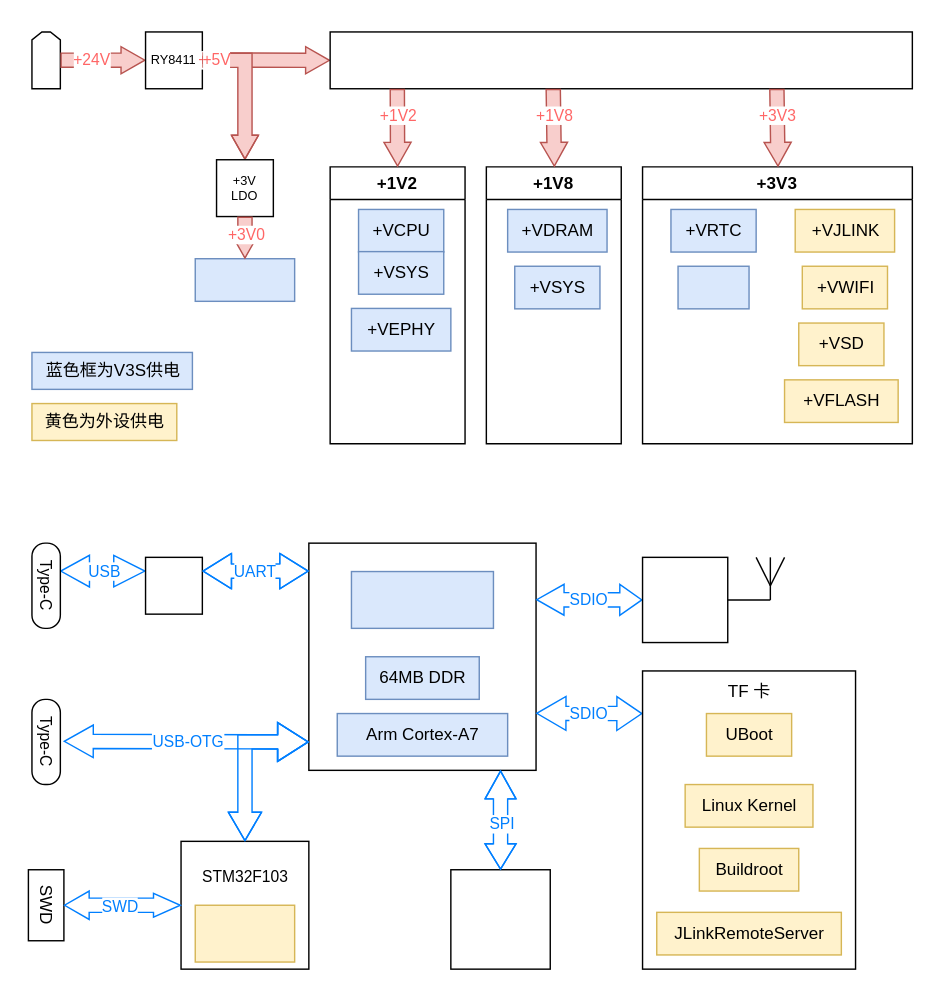
This 937x994 diagram has some shape labels left out. The centre of each missing label's shape, as x and y in pixels:
+VAVCC: [244,279]
+VIO: [713,287]
CH343: [173,585]
EA3059: [620,60]
JLink Firmware: [244,933]
RTL8723 无线网卡: [684,599]
SPI Flash: [499,918]
XT30: [45,60]
全志 V3S: [421,599]
